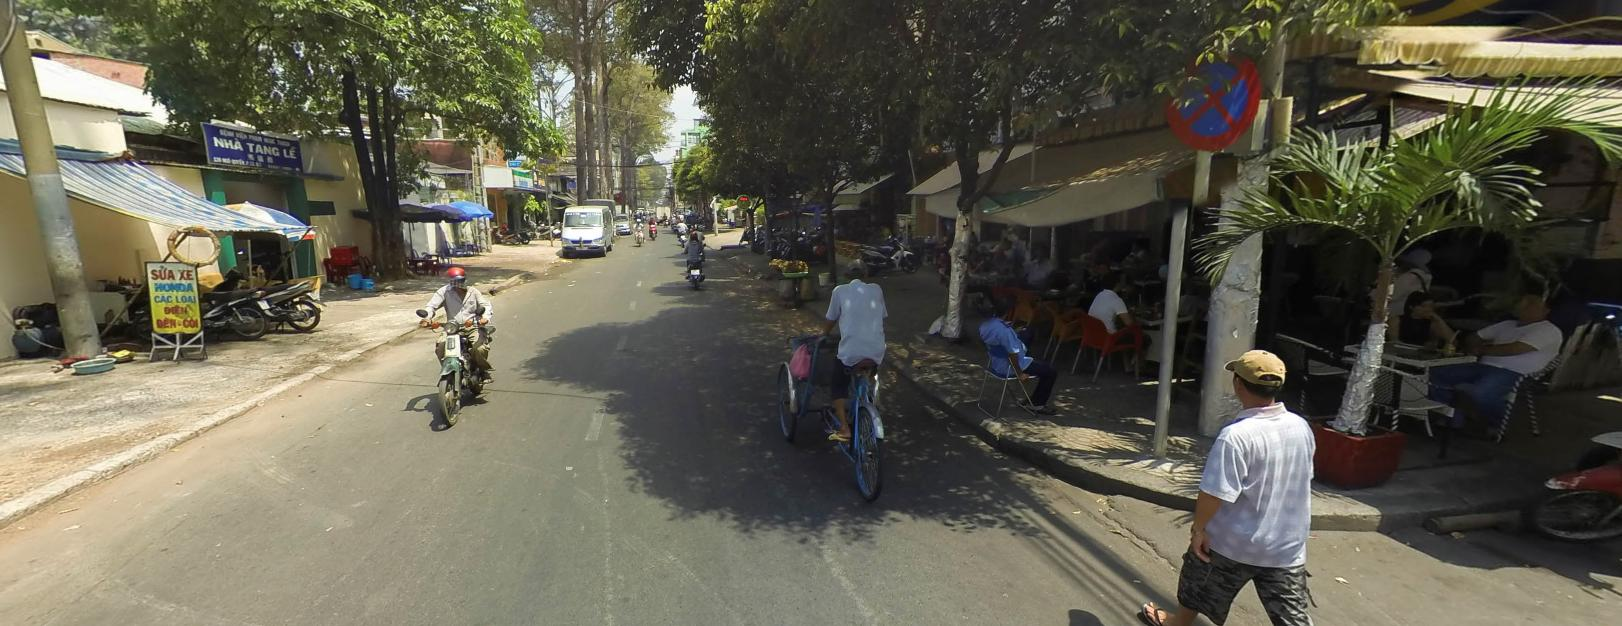Cam dung va do: (1161, 44, 1260, 150)
